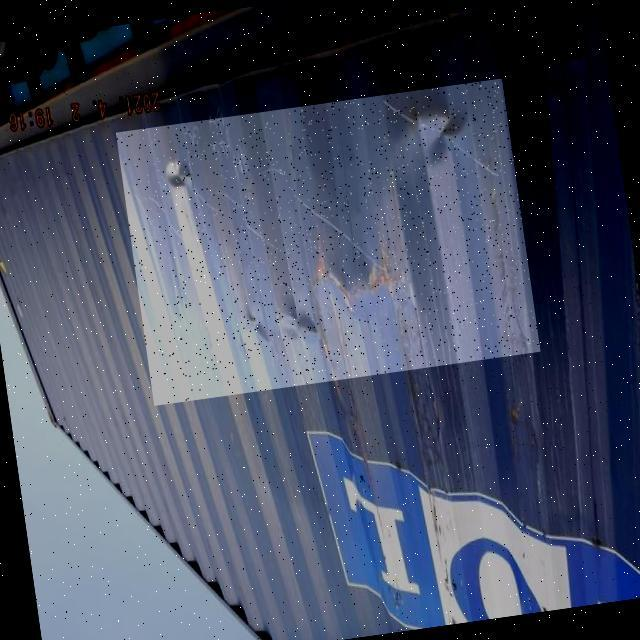Dent: (116, 78, 541, 406)
